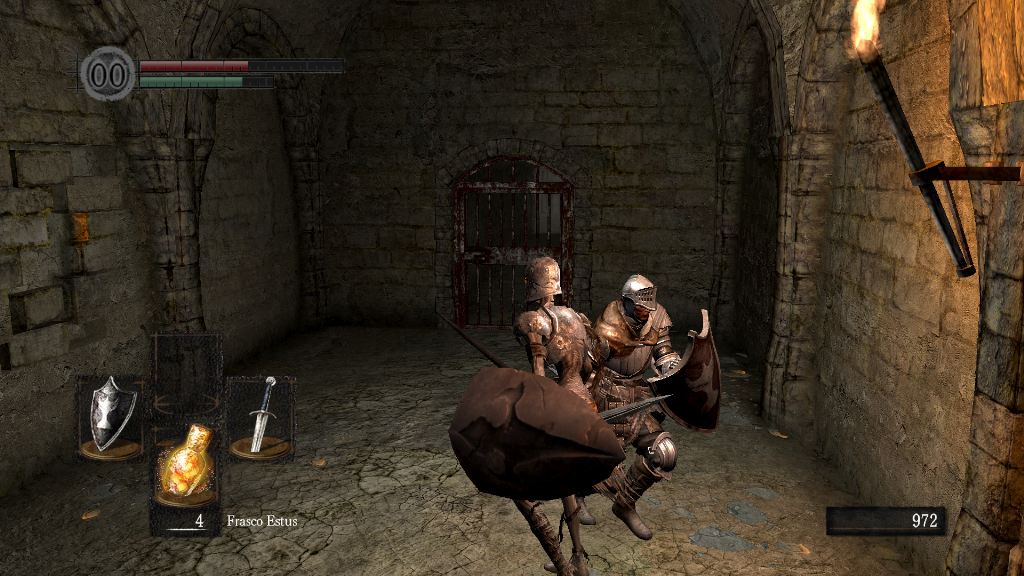health: (138, 58, 343, 71)
humanity: (80, 45, 136, 102)
player: (571, 271, 724, 542)
souls: (825, 506, 945, 536)
stamina: (138, 74, 274, 88)
undeadSoldier: (489, 253, 596, 576)
